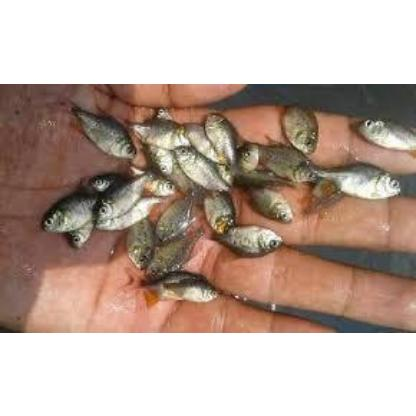ikan-pacu: (68, 103, 136, 159), (316, 163, 402, 197), (96, 168, 152, 219), (172, 146, 226, 190), (216, 223, 282, 256), (41, 194, 97, 230), (245, 183, 295, 221), (283, 102, 319, 152), (360, 116, 414, 148), (204, 110, 238, 158), (124, 218, 154, 266), (172, 281, 216, 303)
